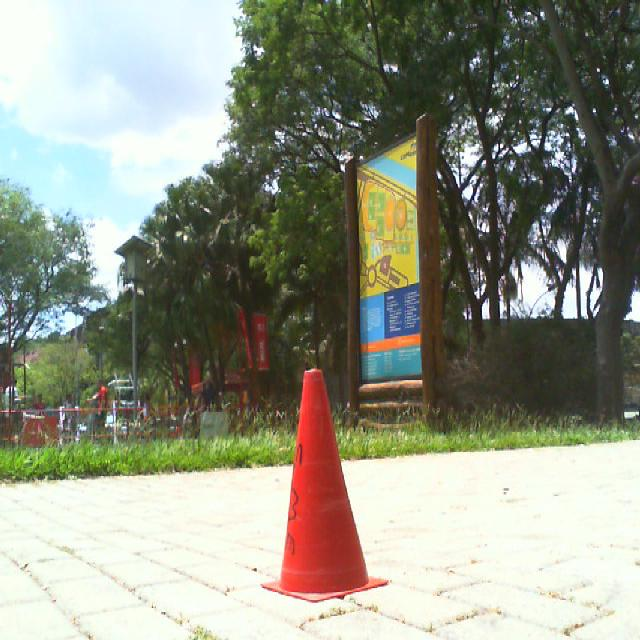cone: (260, 368, 389, 604)
